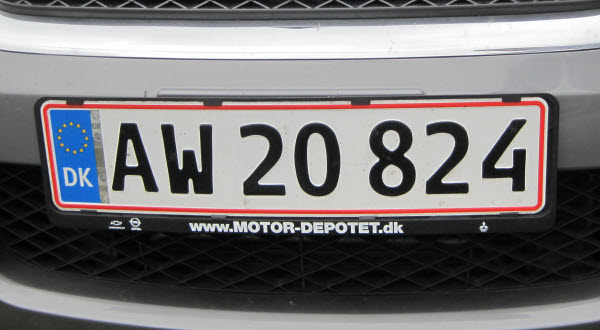license_plate: (38, 94, 549, 219)
